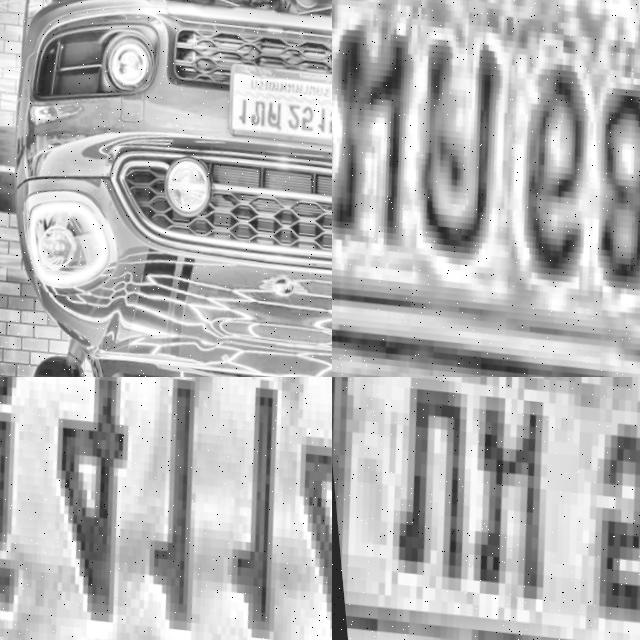license-plate: (332, 0, 640, 377), (0, 377, 332, 640), (332, 377, 640, 640), (216, 59, 332, 148)
